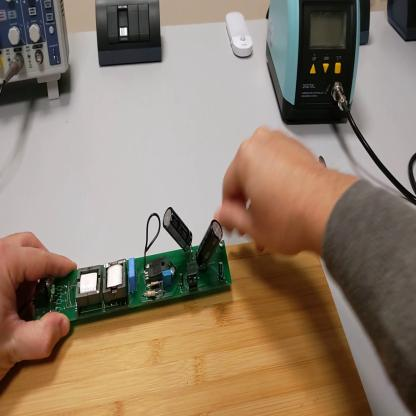hand: (220, 126, 322, 259), (2, 233, 75, 375)
high voltage board: (34, 206, 234, 327)
oscilloscope: (2, 2, 72, 107)
socket: (387, 3, 416, 45), (361, 2, 372, 45)
welder station: (268, 1, 364, 130)
working area: (2, 236, 374, 416)
